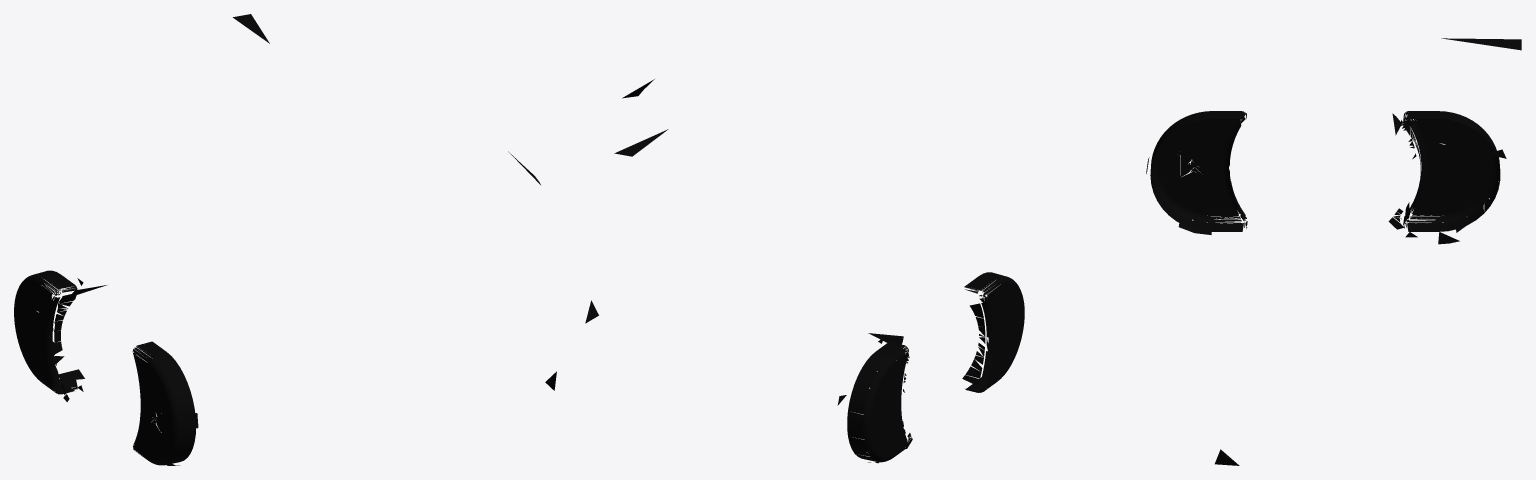
3 renders of one model, left to right at view 1: azimuth 30°, elevation 25°; view 2: azimuth 150°, elevation 25°; view 3: azimuth 270°, elevation 25°, orthographic. The views are drawn at different scales.
Bounding box in the file's own units: 0.1345 × 0.0971 × 0.1235.
